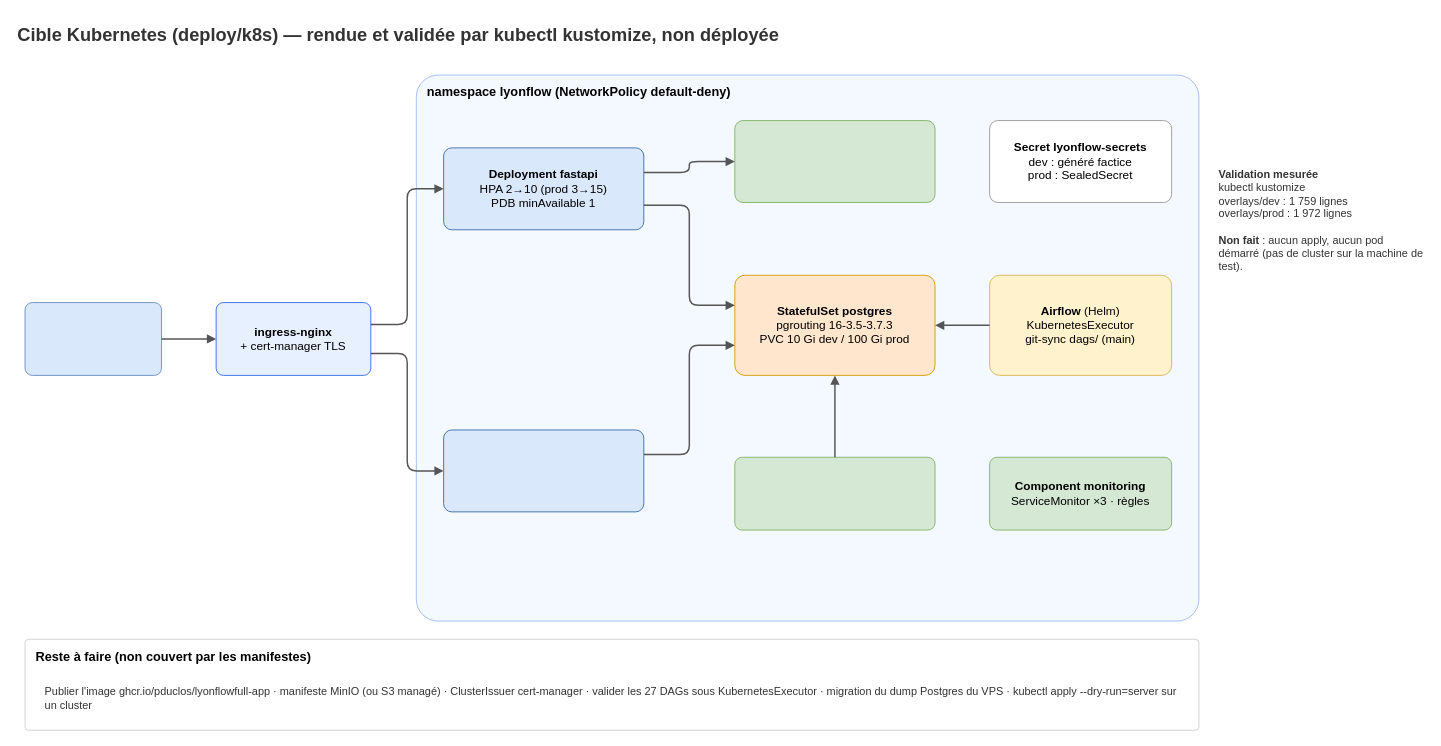
The diagram is 1441 pixels wide and 746 high, and some of its shapes have lost their labels. Each missing label, with the box of its shape:
CronJob postgres-backup pg_dump 02:00 · 7 copies: (734, 456, 935, 530)
Deployment mlflow 2.12.1 PVC artefacts 20 Gi: (734, 120, 935, 202)
Deployment streamlit HPA · PDB: (443, 429, 644, 512)
Utilisateurs (3 personas): (24, 302, 162, 375)
